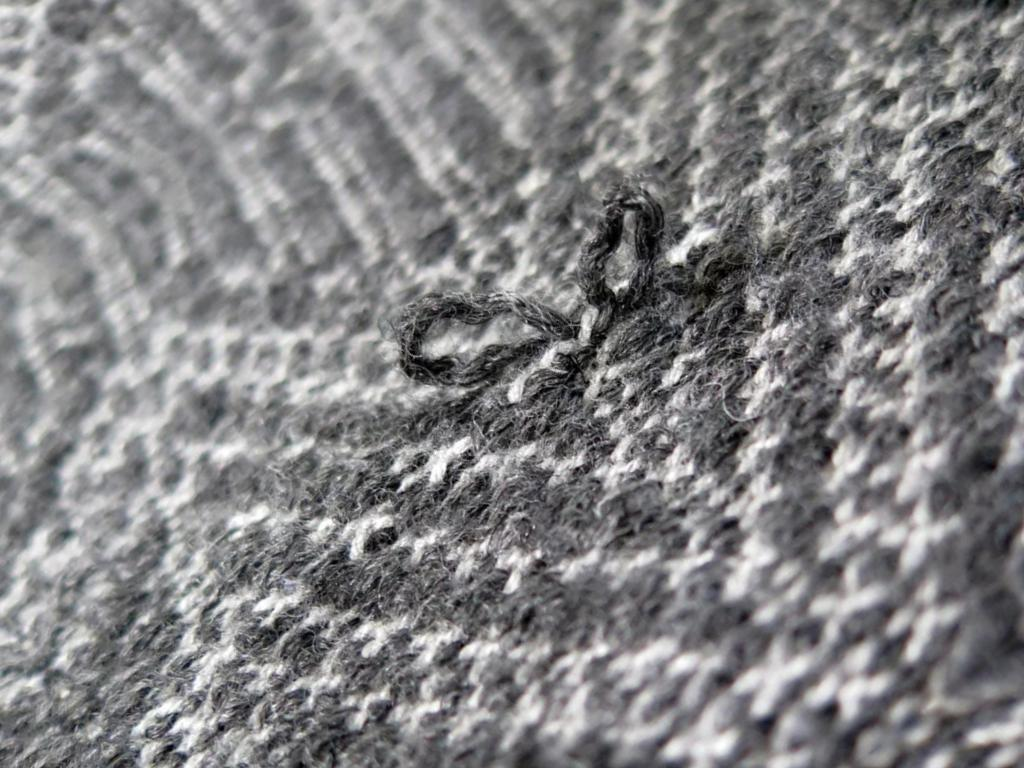snag: (379, 281, 570, 428), (575, 169, 686, 331)
